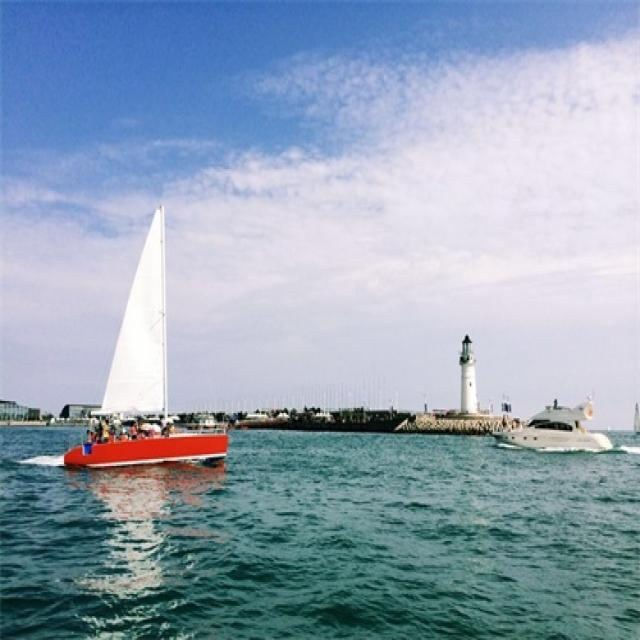Ship: (55, 211, 230, 472)
